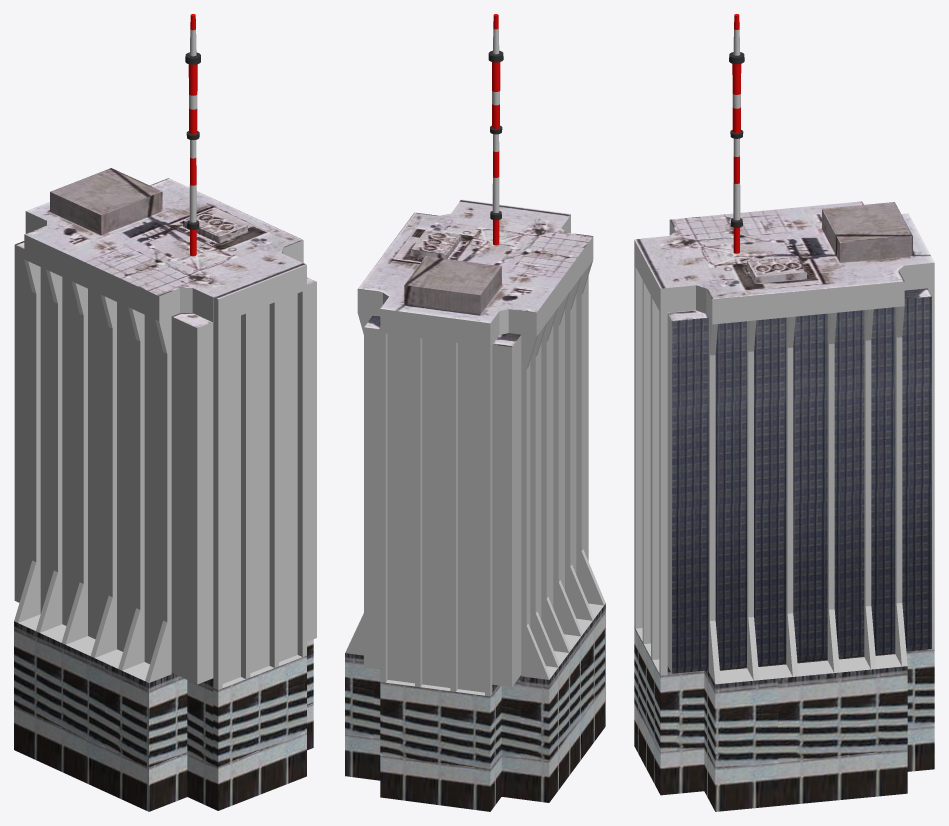
Rendered from One-Biscayne-Tower.fbx.
3 renders of one model, left to right at view 1: azimuth 30°, elevation 25°; view 2: azimuth 150°, elevation 25°; view 3: azimuth 270°, elevation 25°, orthographic. The views are drawn at different scales.
Parts seen in each view (by area): view 1: Model, Group4, Group3, Group1; view 2: Model, Group4, Group2, Group1; view 3: Model, Group1, Group3, Group2, Group4.
Part boxes in pixels (<box>): Model: <box>14,14,316,808</box>; Group4: <box>14,229,171,811</box>; Group3: <box>213,262,306,810</box>; Group1: <box>156,178,313,750</box>; Model: <box>364,14,588,808</box>; Group4: <box>521,234,605,802</box>; Group2: <box>380,306,492,811</box>; Group1: <box>345,212,429,779</box>; Model: <box>641,14,931,798</box>; Group1: <box>708,274,907,811</box>; Group3: <box>634,239,667,795</box>; Group2: <box>901,213,934,769</box>; Group4: <box>669,201,863,235</box>.
Size of what is drawn, in the model's own units: 6640 by 21000 by 7686.
